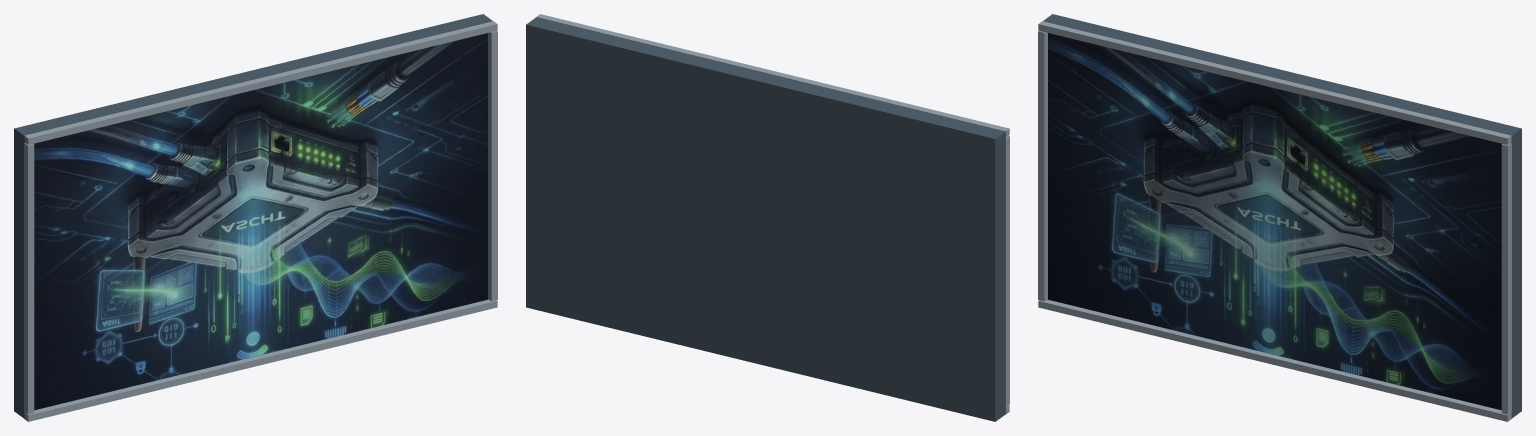
The model's file is ASCHT_router_3D.glb.
The picture shows the model from 3 angles, left to right: view 1: azimuth 30°, elevation 25°; view 2: azimuth 150°, elevation 25°; view 3: azimuth 330°, elevation 25°; orthographic projection.
Parts seen in each view (by area): view 1: ASCHT router artwork texture, Metallic backing plate, Raised metallic edge 1, Raised metallic edge 2, Raised metallic edge 3, Raised metallic edge 4; view 2: Metallic backing plate, Raised metallic edge 1, Raised metallic edge 3; view 3: ASCHT router artwork texture, Metallic backing plate, Raised metallic edge 1, Raised metallic edge 2, Raised metallic edge 4, Raised metallic edge 3.
Boxes of the visible parts, box(x1,y1,x2,y2) form: ASCHT router artwork texture: box(34, 33, 487, 410); Metallic backing plate: box(14, 14, 492, 418); Raised metallic edge 1: box(24, 21, 497, 144); Raised metallic edge 2: box(24, 299, 497, 421); Raised metallic edge 3: box(24, 143, 34, 414); Raised metallic edge 4: box(488, 31, 497, 301); Metallic backing plate: box(526, 17, 1005, 421); Raised metallic edge 1: box(536, 14, 1009, 137); Raised metallic edge 3: box(1005, 135, 1009, 406); ASCHT router artwork texture: box(1048, 33, 1501, 410); Metallic backing plate: box(1043, 14, 1521, 418); Raised metallic edge 1: box(1038, 21, 1511, 144); Raised metallic edge 2: box(1038, 299, 1511, 421); Raised metallic edge 4: box(1501, 143, 1511, 414); Raised metallic edge 3: box(1038, 31, 1047, 301).
Size of the model in its own units: 4.12 by 2.38 by 0.215.
Materials: 1 (1 with a texture image).
